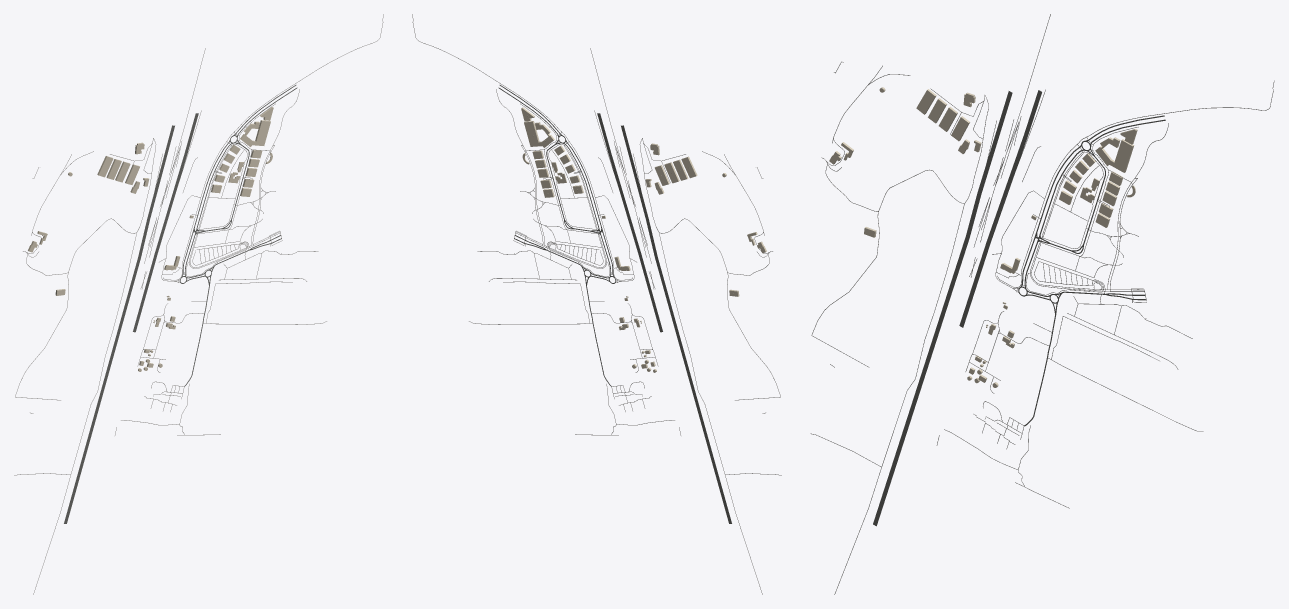
Rendered from historic-palestine-06_27_3481_3215.glb.
The picture shows the model from 3 angles, left to right: view 1: azimuth 30°, elevation 25°; view 2: azimuth 150°, elevation 25°; view 3: azimuth 330°, elevation 25°; orthographic projection. The views are drawn at different scales.
Parts seen in each view (by area): view 1: Road איילון דרום.001, Road איילון צפון.001; view 2: Road איילון דרום.001, Road איילון צפון.001; view 3: Road איילון דרום.001, Road איילון צפון.001.
Part boxes in pixels (x1,y1,x2,y2): Road איילון דרום.001: (64, 218, 149, 523); Road איילון צפון.001: (155, 113, 198, 253); Road איילון דרום.001: (646, 218, 731, 523); Road איילון צפון.001: (597, 113, 640, 253); Road איילון דרום.001: (873, 192, 981, 526); Road איילון צפון.001: (987, 90, 1041, 242).
Bounding box in the file's own units: 1401 × 1828 × 8.7.
